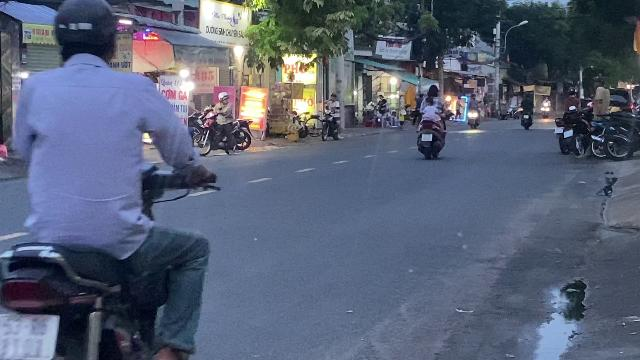helmet: (50, 0, 120, 66)
licenseplate: (0, 314, 58, 358)
motorcyclist: (0, 1, 222, 358)
